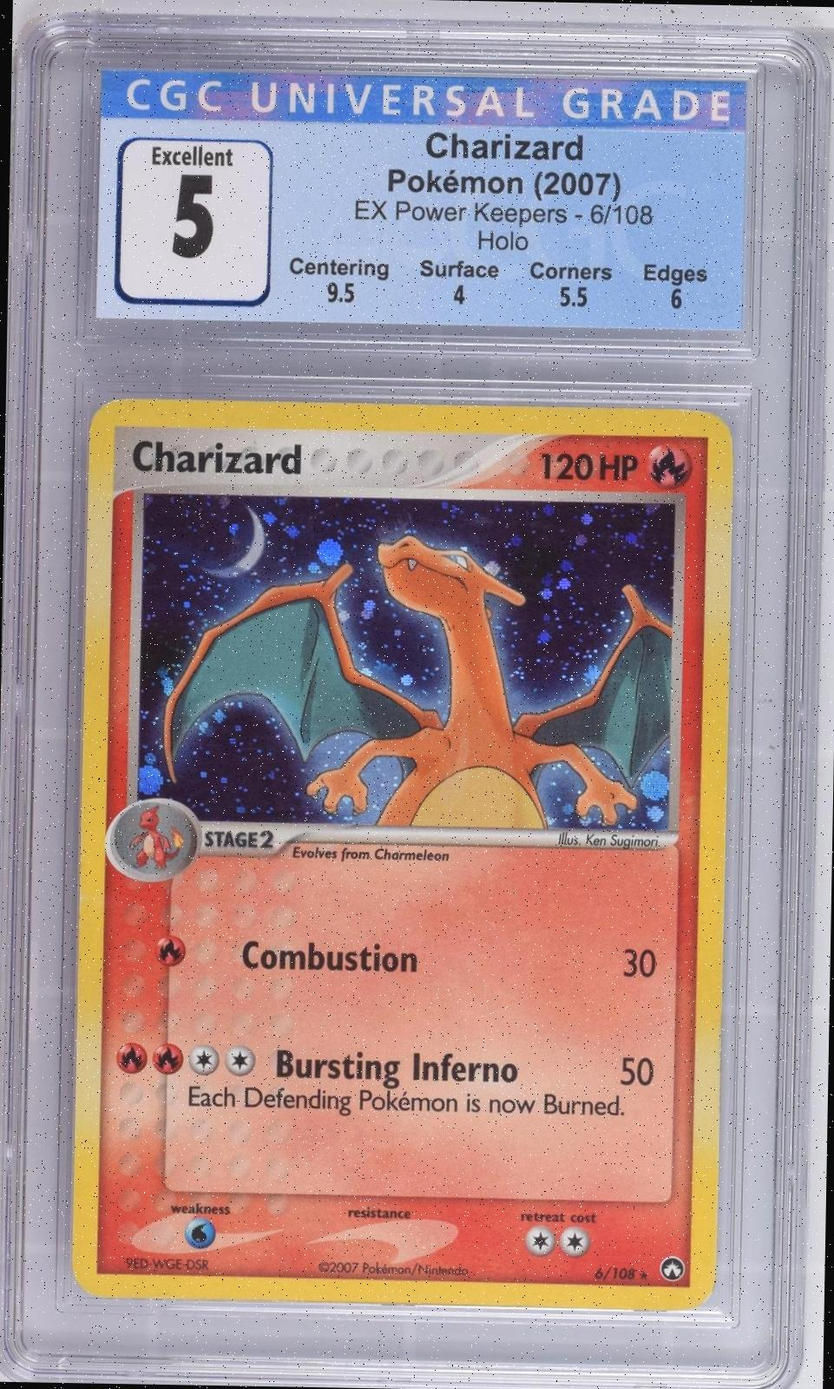card-2UtV: (71, 398, 733, 1310)
